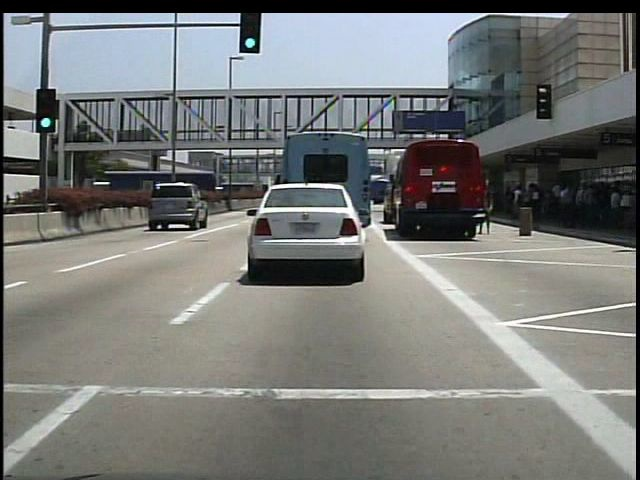person: (479, 187, 492, 238)
